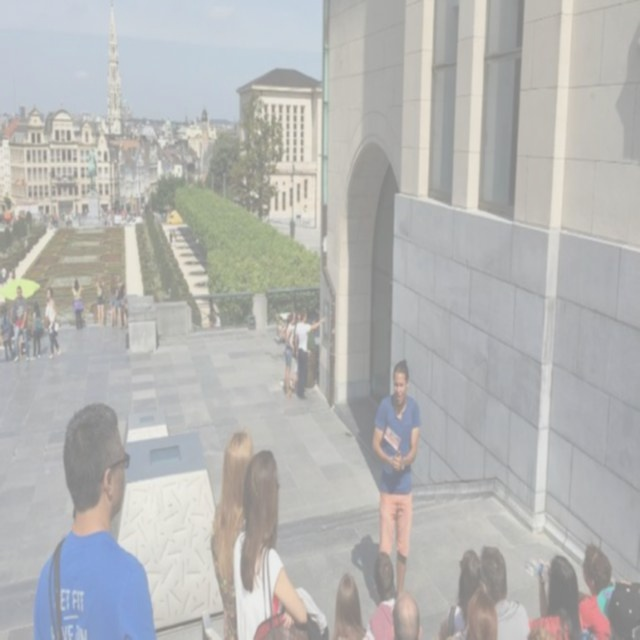pessoa: (22, 396, 170, 639), (230, 446, 312, 638), (370, 354, 423, 608), (208, 428, 256, 639), (478, 540, 531, 638), (528, 553, 586, 639), (438, 546, 486, 638), (576, 540, 618, 638), (330, 570, 376, 638), (293, 308, 326, 401), (366, 550, 396, 639), (606, 573, 640, 637), (461, 590, 502, 638), (389, 590, 424, 637), (10, 284, 30, 364), (42, 284, 62, 362), (523, 622, 612, 638), (282, 310, 296, 400), (0, 302, 16, 362), (294, 309, 305, 393), (30, 300, 44, 363), (70, 276, 84, 332), (93, 271, 106, 331), (84, 144, 98, 193), (115, 274, 126, 331), (109, 277, 118, 329), (308, 302, 320, 331), (167, 226, 178, 248), (7, 265, 16, 277)
